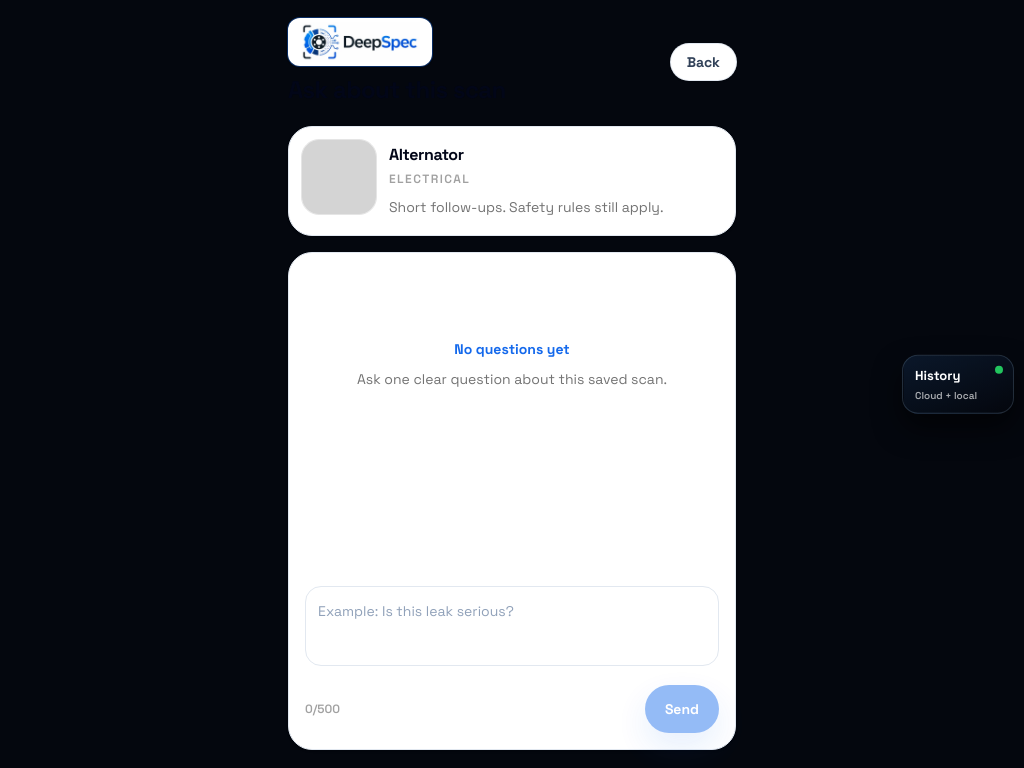
Test: Chat › explains provider rate limits without treating them as bad scan answers
This screenshot has width=1024, height=768.
Type "What should I check next?" into the text box named "Ask a follow-up question" at {"x": 512, "y": 626}, box [305,586,719,666]
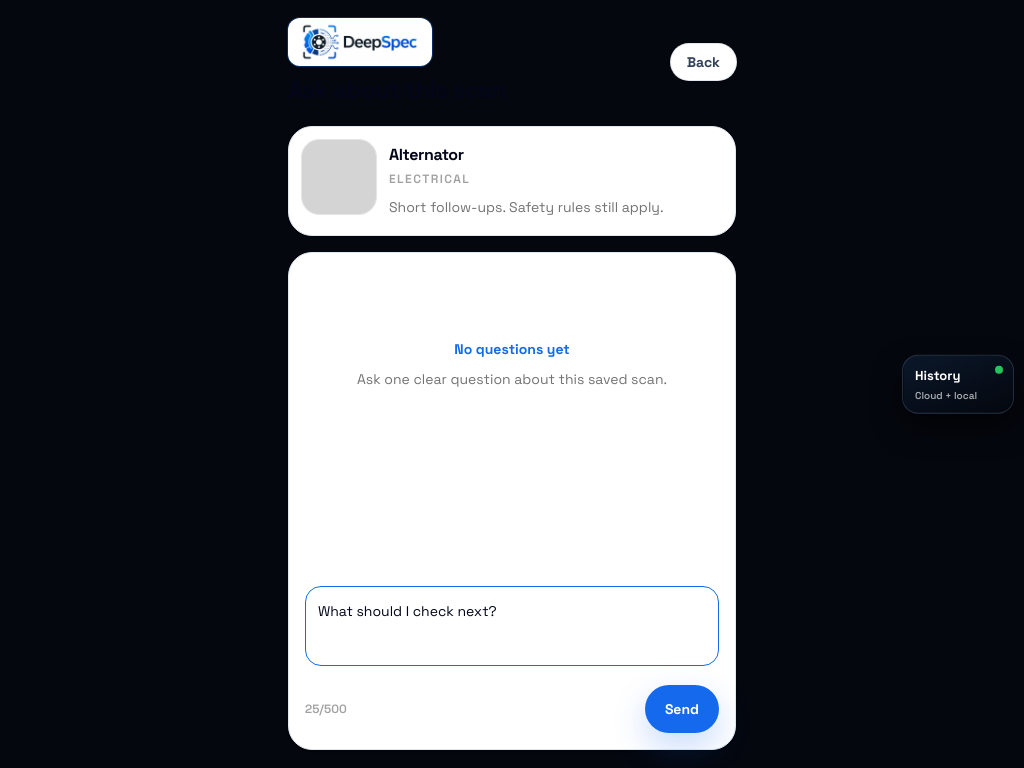
Click the button "Send" at {"x": 682, "y": 709}, box [645,685,719,733]
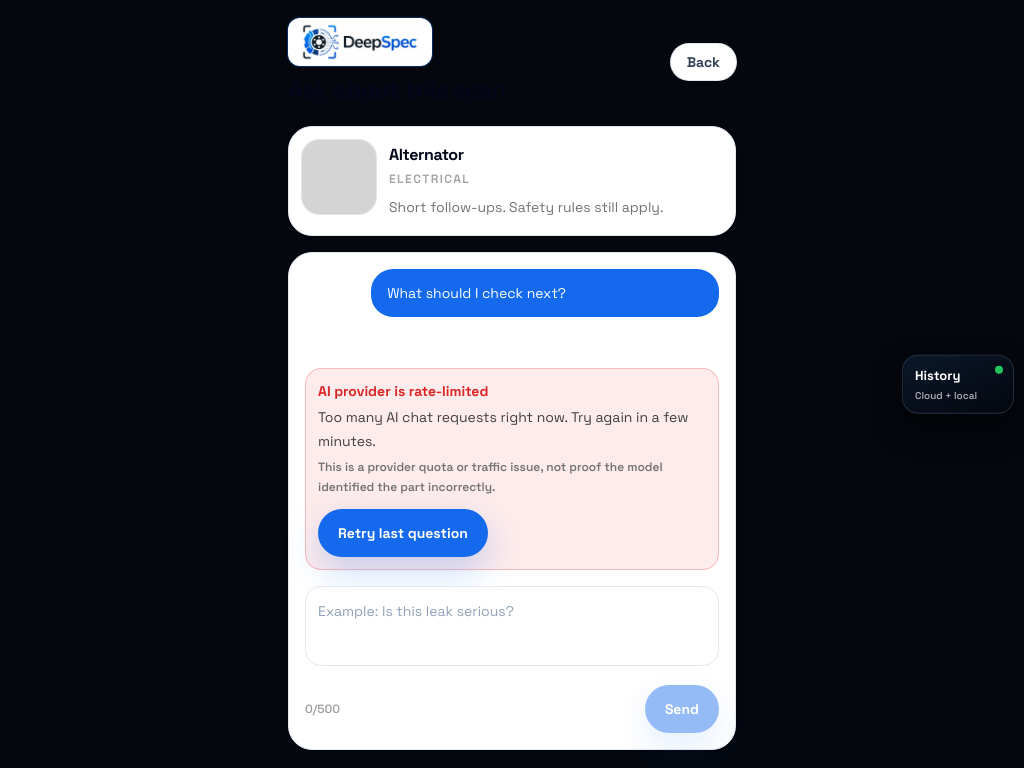
expect the text "AI provider is rate-limited" is shown: met, box [318,382,488,400]
expect the text "Too many AI chat requests right now. Try again in a few minutes." is shown: met, box [318,405,706,453]
expect the text "not proof the model identified the part incorrectly" is shown: met, box [318,459,663,495]
